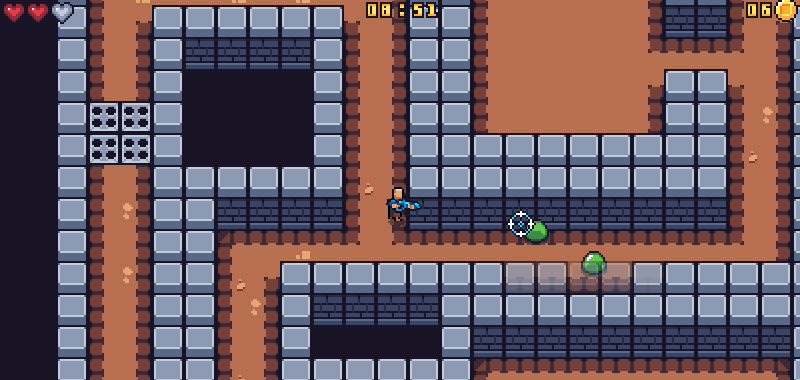enemy_slug: (577, 249, 608, 278), (522, 215, 550, 243)
trap_off: (86, 102, 153, 164)
